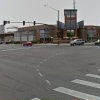crosswalk: (28, 67, 100, 99)
